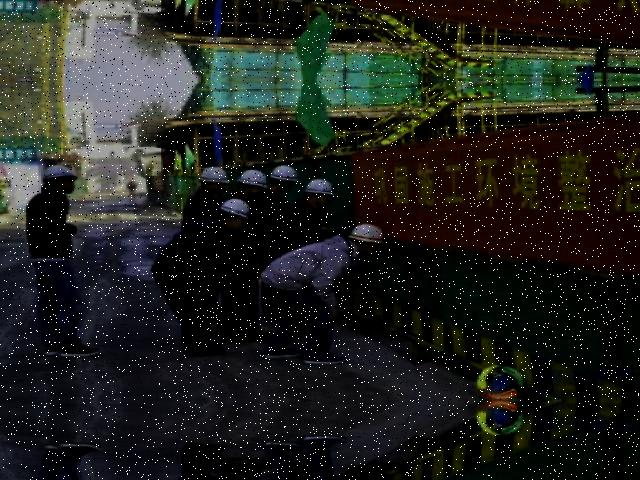Helmet: (342, 218, 388, 253), (212, 192, 251, 222), (34, 160, 78, 186), (190, 161, 231, 188), (296, 175, 335, 202), (233, 162, 269, 190), (262, 158, 297, 186)
